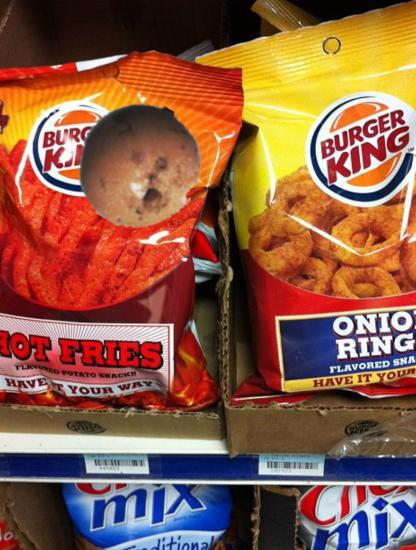Granadilla: (76, 102, 203, 229)
